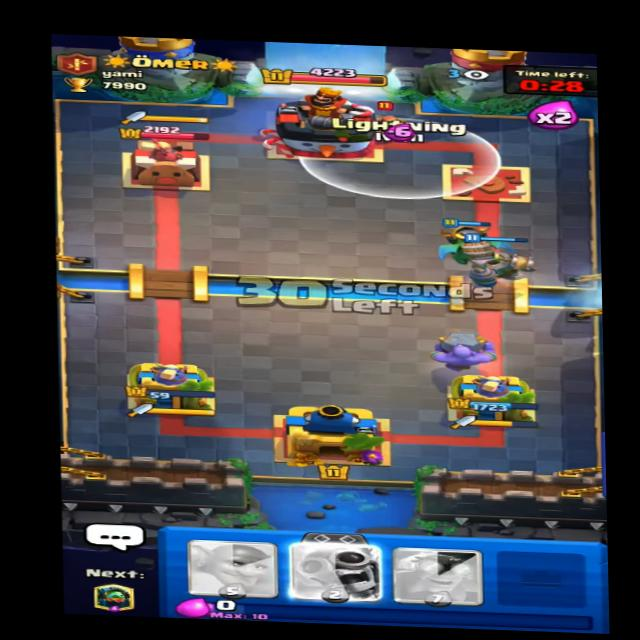wizard: (361, 105, 423, 141)
